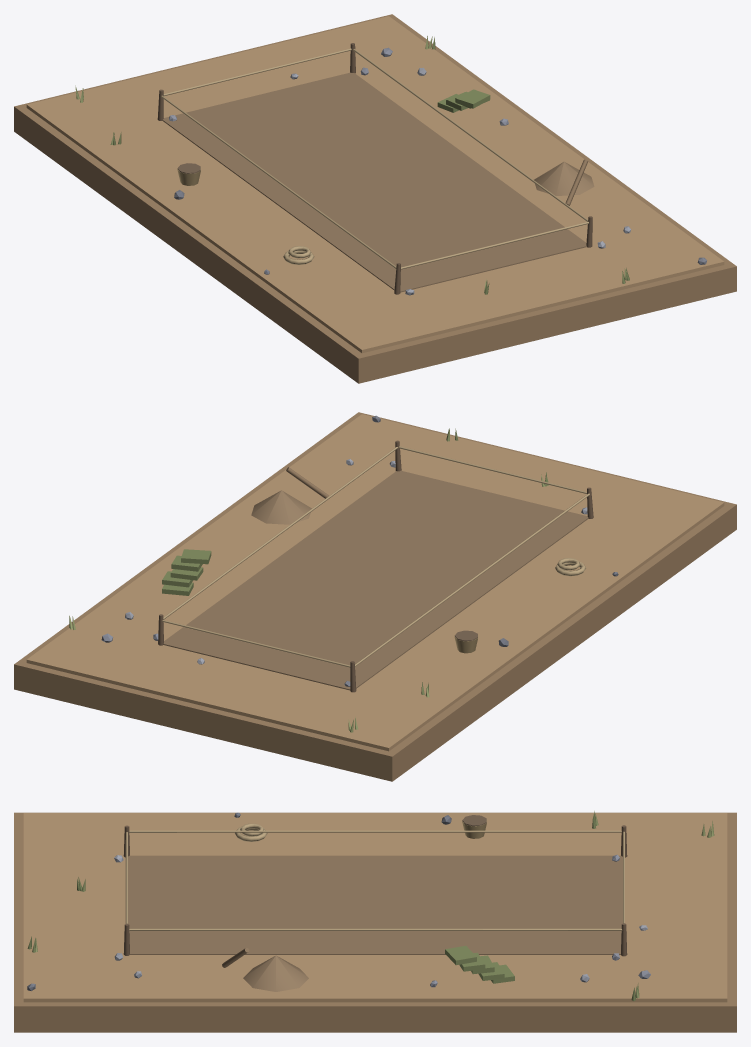
The model's file is num-4-site.glb.
The picture shows the model from 3 angles, top to bottom: view 1: azimuth 30°, elevation 25°; view 2: azimuth 150°, elevation 25°; view 3: azimuth 270°, elevation 25°; orthographic projection. The views are drawn at different scales.
Parts seen in each view (by area): view 1: era1; view 2: era1; view 3: era1.
Boxes of the visible parts, bbox=[...] form: era1: bbox=[14, 14, 736, 383]; era1: bbox=[14, 412, 736, 781]; era1: bbox=[14, 811, 736, 1032].
Bounding box in the file's own units: 14.2 × 2.18 × 22.4.
